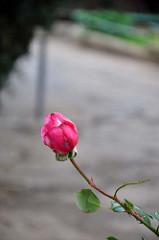Rose: (37, 107, 83, 163)
